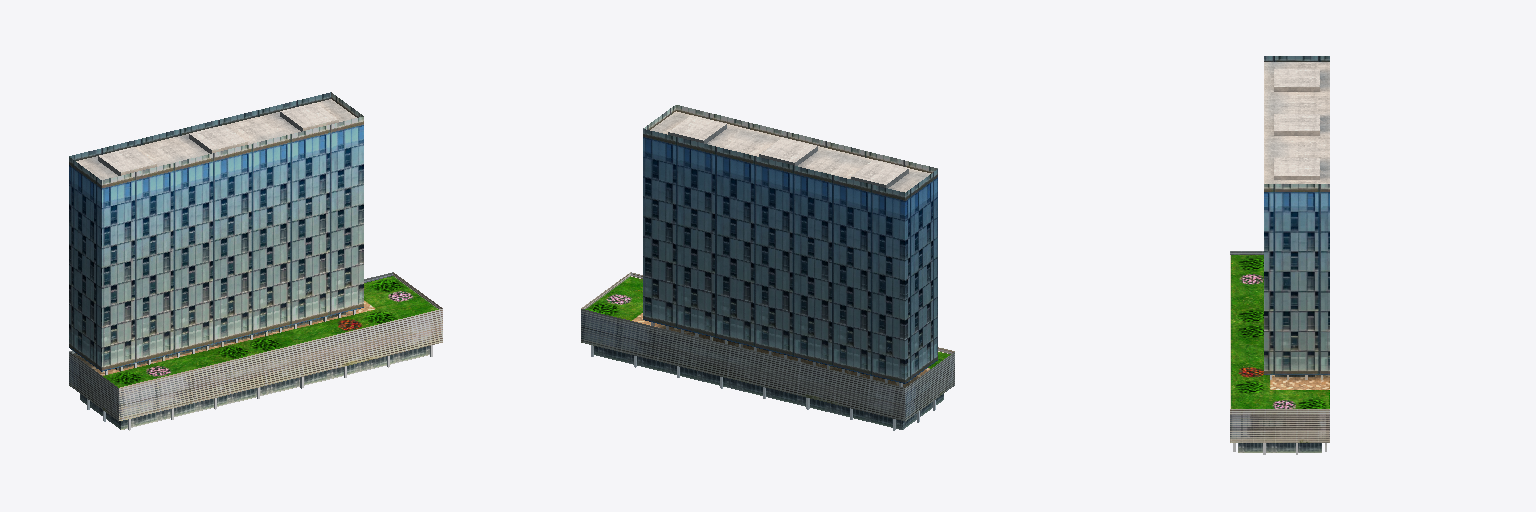
3 views of the same model, side by side, from view 1: azimuth 30°, elevation 25°; view 2: azimuth 150°, elevation 25°; view 3: azimuth 270°, elevation 25° (orthographic).
Parts seen in each view (by area): view 1: 4C; view 2: 4C; view 3: 4C.
Part boxes in pixels (x1,y1,x2,y2): 4C: (69,92,442,430); 4C: (581,105,954,430); 4C: (1230,56,1329,454).
Size of the model in its own units: 117 by 83.44 by 31.08.
1 materials, 1 textured.